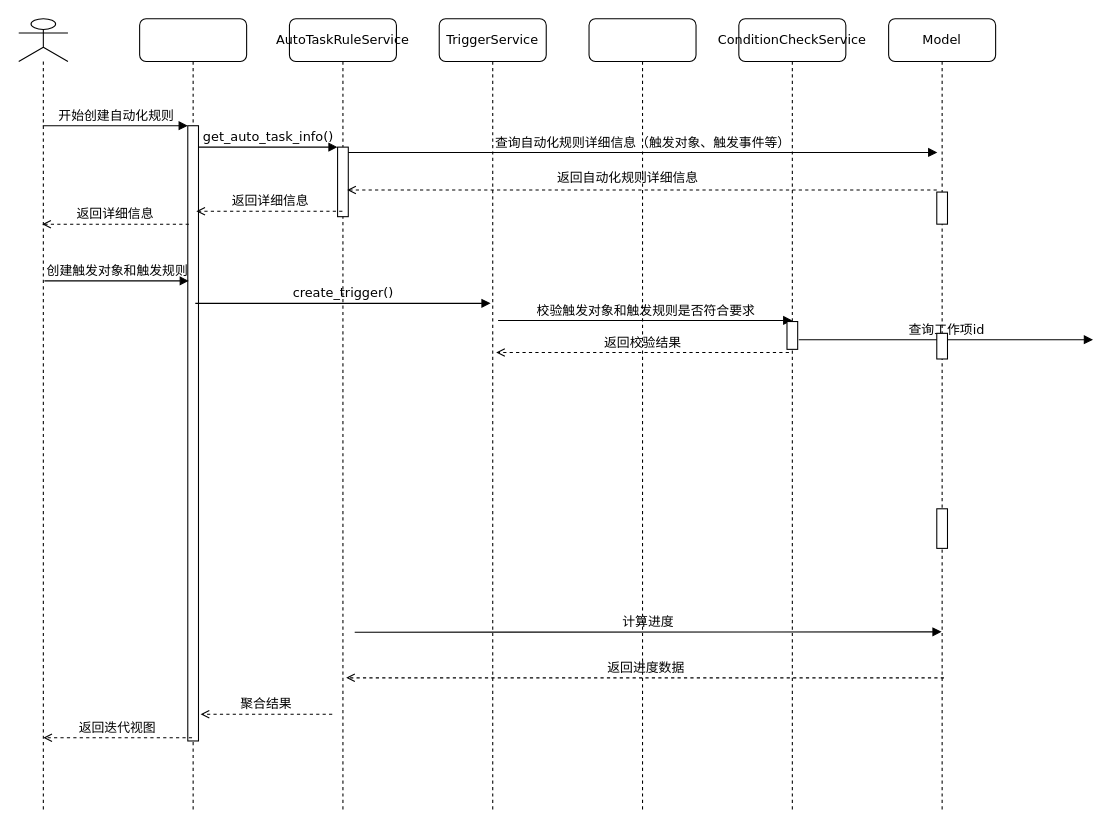
The diagram is 1120 pixels wide and 829 high, and some of its shapes have lost their labels. Here are the shapes that lost their labels. From the top down, the box of each, then its label:
(139, 18, 247, 811): AutoTaskControlller
(588, 18, 696, 811): ExecutorService
